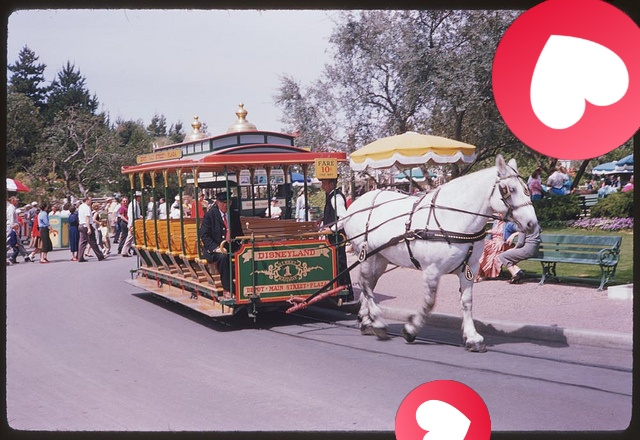love: (492, 0, 640, 160), (395, 380, 491, 440)
